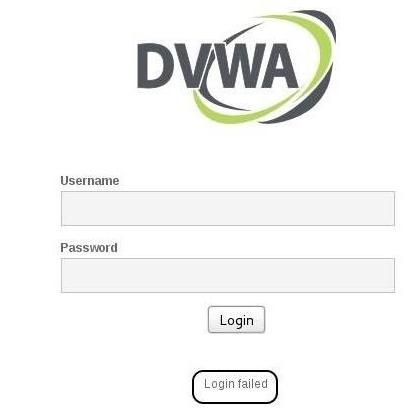button: (192, 368, 281, 405), (206, 305, 266, 335)
field: (59, 189, 397, 228), (59, 257, 396, 294)
